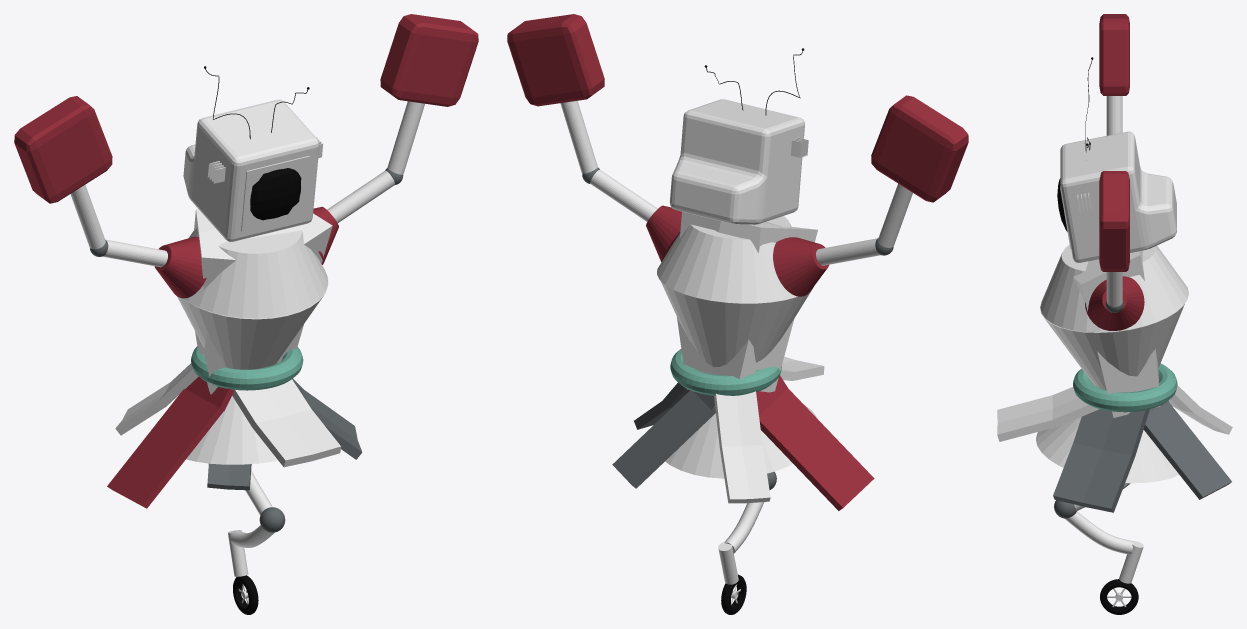
File: rough layout.fbx
3 renders of one model, left to right at view 1: azimuth 30°, elevation 25°; view 2: azimuth 150°, elevation 25°; view 3: azimuth 270°, elevation 25°, orthographic. The views are drawn at different scales.
Visible parts, largest first — view 1: tv case, base body top half, Cube.001, Cube.002, Plane, Plane.002, base body bottom half, Cube, Cone.001, Torus, screen, Cone.003 (+9 smaller); view 2: tv case, base body top half, Cube.001, Cube.002, Plane, base body bottom half, Plane.006, Cube, Plane.003, Cone.001, Cone.003, Torus (+9 smaller); view 3: tv case, Plane.005, base body top half, base body bottom half, Plane.003, Cube.002, Plane.002, Cone.001, Cube, Cube.001, Torus, Cone.004 (+6 smaller).
Boxes of the visible parts, x1,y1,x2,y2 form: tv case: (183, 99, 319, 241); base body top half: (183, 228, 327, 318); Cube.001: (14, 96, 112, 203); Cube.002: (380, 14, 478, 106); Plane: (107, 376, 233, 508); Plane.002: (232, 379, 340, 467); base body bottom half: (177, 270, 328, 369); Cube: (194, 208, 332, 394); Cone.001: (186, 396, 277, 464); Torus: (191, 346, 303, 390); screen: (250, 168, 301, 220); Cone.003: (154, 236, 206, 298); tv case: (670, 99, 804, 224); base body top half: (657, 216, 797, 303); Cube.001: (871, 95, 968, 202); Cube.002: (507, 14, 604, 106); Plane: (756, 375, 874, 510); base body bottom half: (660, 281, 813, 366); Plane.006: (714, 391, 770, 503); Cube: (677, 211, 817, 392); Plane.003: (612, 390, 715, 488); Cone.001: (665, 404, 818, 478); Cone.003: (773, 237, 829, 296); Torus: (670, 349, 781, 395); tv case: (1060, 131, 1176, 262); Plane.005: (1053, 409, 1149, 512); base body top half: (1040, 244, 1188, 332); base body bottom half: (1040, 301, 1184, 389); Plane.003: (1143, 400, 1231, 499); Cube.002: (1099, 171, 1129, 271); Plane.002: (997, 387, 1099, 441); Cone.001: (1036, 417, 1179, 483); Cube: (1073, 250, 1160, 417); Cube.001: (1099, 14, 1129, 95); Torus: (1073, 363, 1177, 412); Cone.004: (1085, 276, 1144, 330).
Bounding box in the file's own units: 195 × 235 × 94.45.
